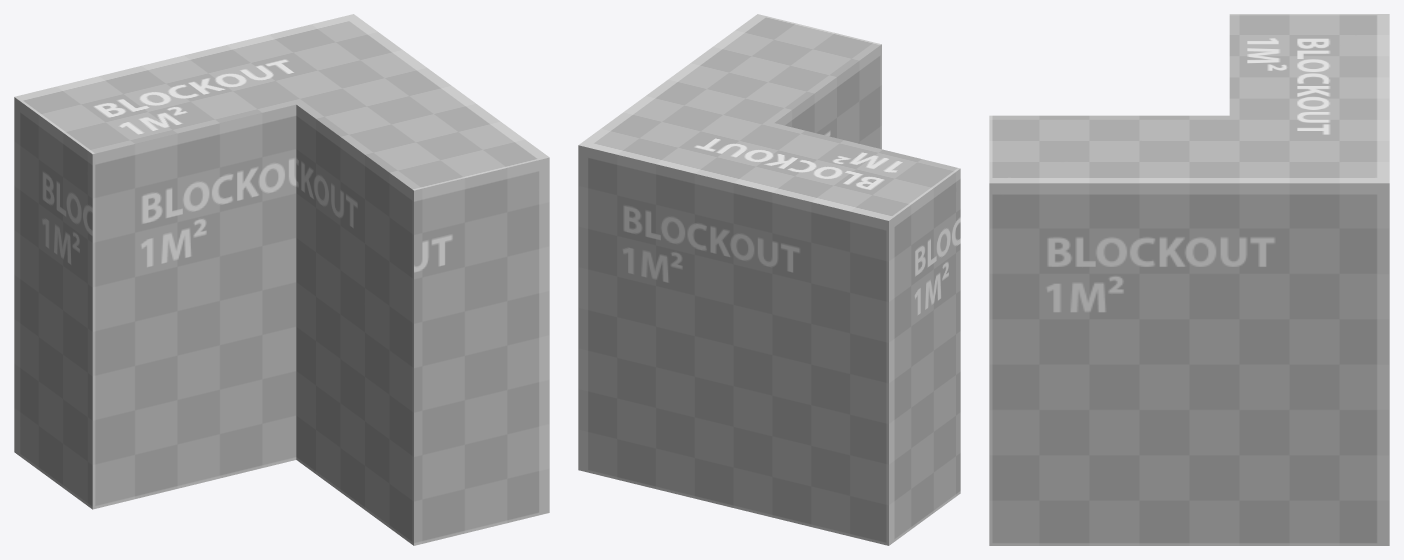
The model's file is BlockoutEdgeHalfThickInside.fbx.
3 views of the same model, side by side, from view 1: azimuth 30°, elevation 25°; view 2: azimuth 150°, elevation 25°; view 3: azimuth 270°, elevation 25° (orthographic). The views are drawn at different scales.
Parts seen in each view (by area): view 1: BlockoutEdgeHalfThickInside; view 2: BlockoutEdgeHalfThickInside; view 3: BlockoutEdgeHalfThickInside.
Part boxes in pixels (x1=…): BlockoutEdgeHalfThickInside: x1=14, y1=14, x2=549, y2=545; BlockoutEdgeHalfThickInside: x1=578, y1=14, x2=960, y2=545; BlockoutEdgeHalfThickInside: x1=989, y1=14, x2=1389, y2=545.
Bounding box in the file's own units: 100 × 100 × 100.
